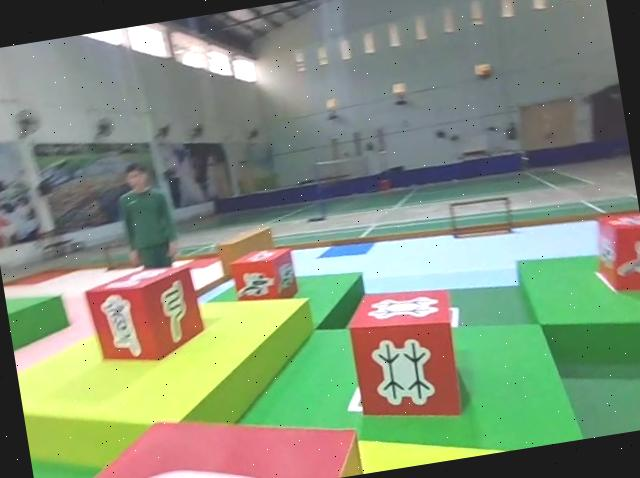R1: (584, 202, 640, 304), (227, 248, 304, 314)
R2 Fake: (28, 390, 384, 478), (80, 261, 210, 376)
R2 Real: (336, 277, 470, 430)
